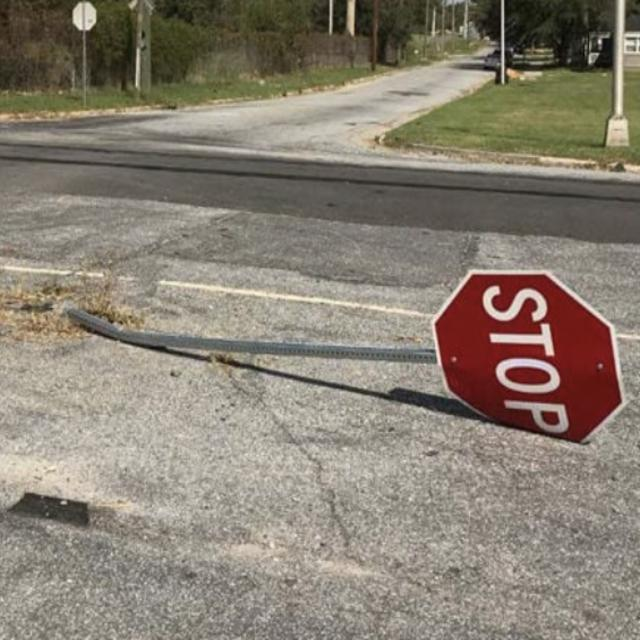Inclined Pole: (34, 248, 638, 447)
